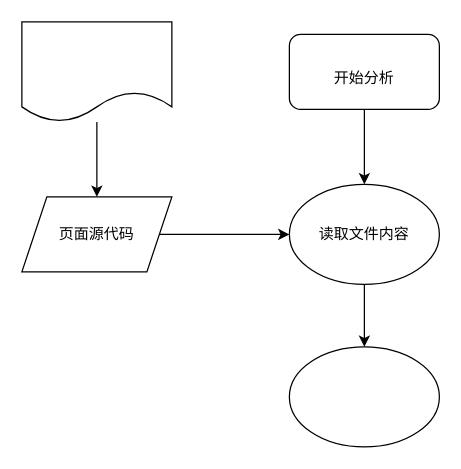
This 461x469 diagram has some shape labels left out. The shapes that lost their labels are listed below. From the top down, each one's centre as x and y in pixels, then its label:
At pixel 96 71: "调用 selenium 库得到的大学排名文件".
At pixel 363 396: "使用 bs4 等库分析源文件".
